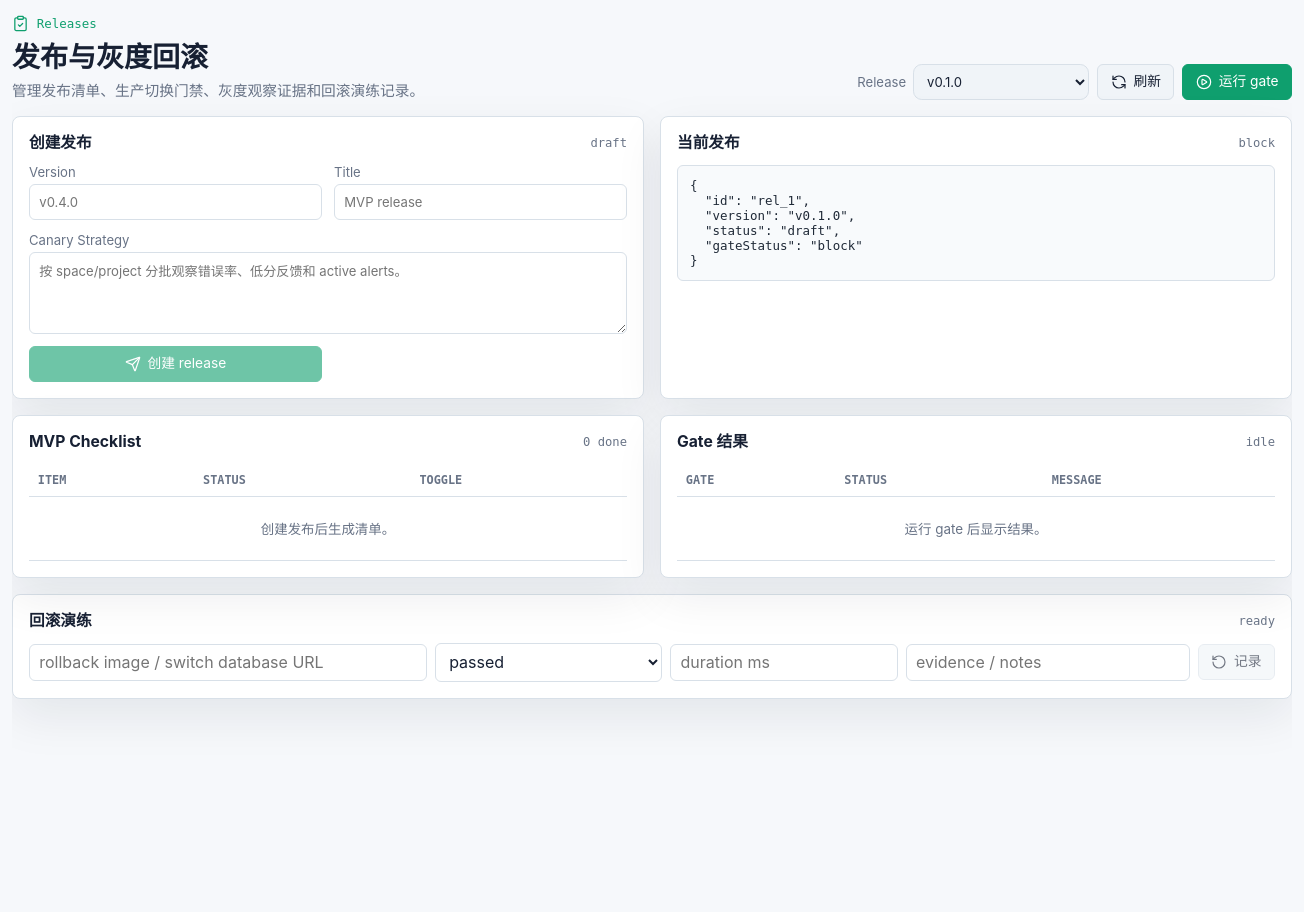
Test: ReleasesPage › disables rollback record until scenario is filled
The image size is (1304, 912).
Expected: the button with test id "release-rollback-submit" is disabled, top-left (1198, 644), bottom-right (1275, 680)
Type "rollback image" into the field with test id "release-rollback-scenario" at (228, 662), box top-left (29, 644), bottom-right (427, 681)
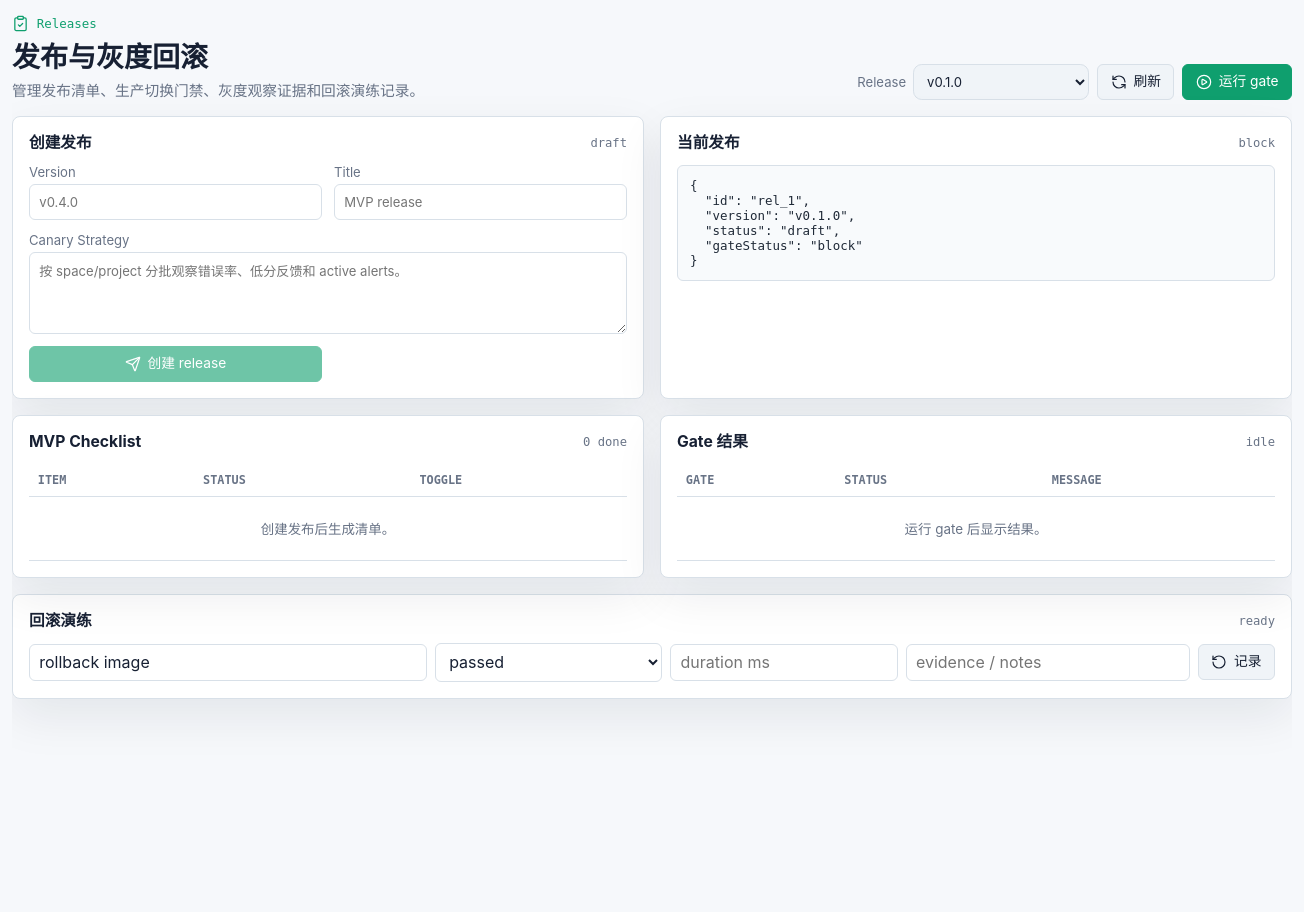
Expected: the button with test id "release-rollback-submit" is enabled, top-left (1198, 644), bottom-right (1275, 680)
